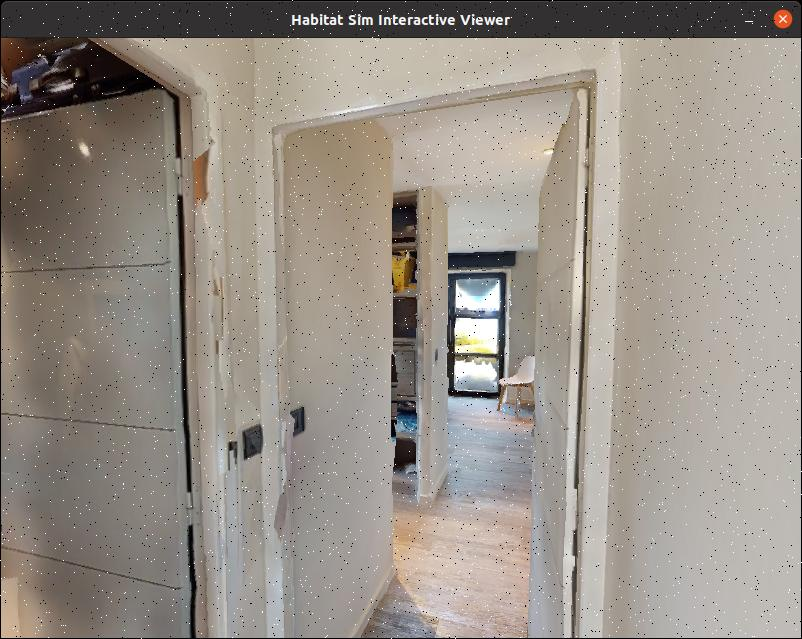door: (0, 86, 178, 638)
door-frame: (273, 65, 604, 639), (0, 32, 222, 638)
